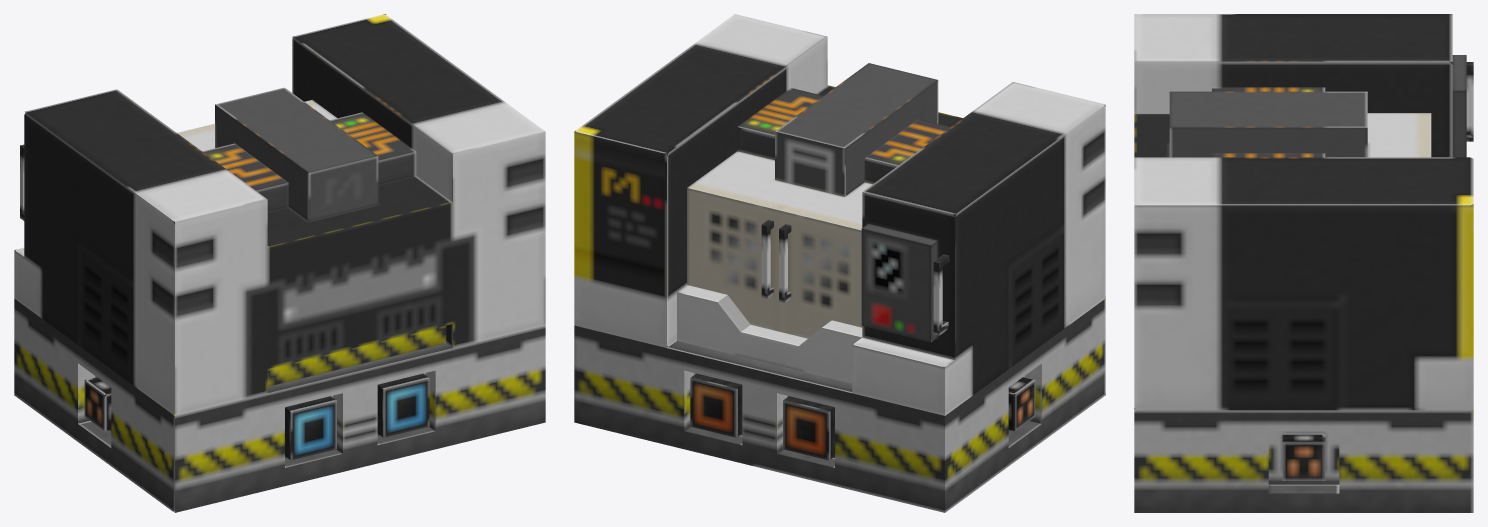
The model's file is cnc.obj.
3 renders of one model, left to right at view 1: azimuth 30°, elevation 25°; view 2: azimuth 150°, elevation 25°; view 3: azimuth 270°, elevation 25°, orthographic. The views are drawn at different scales.
Parts seen in each view (by area): view 1: cube.039, cube.002, cube.048; view 2: cube.039, cube.002, cube.048, cube.034; view 3: cube.039, cube.002, cube.048, cube.034.
Part boxes in pixels (bbox=[...]): cube.039: bbox=[14, 14, 545, 415]; cube.002: bbox=[14, 299, 545, 512]; cube.048: bbox=[177, 87, 452, 386]; cube.039: bbox=[574, 14, 1105, 415]; cube.002: bbox=[574, 298, 1105, 512]; cube.048: bbox=[677, 63, 962, 383]; cube.034: bbox=[761, 220, 949, 335]; cube.039: bbox=[1134, 14, 1473, 410]; cube.002: bbox=[1134, 408, 1473, 512]; cube.048: bbox=[1134, 87, 1431, 157]; cube.034: bbox=[1466, 62, 1473, 141].
Bounding box in the file's own units: 4 × 3 × 3.
